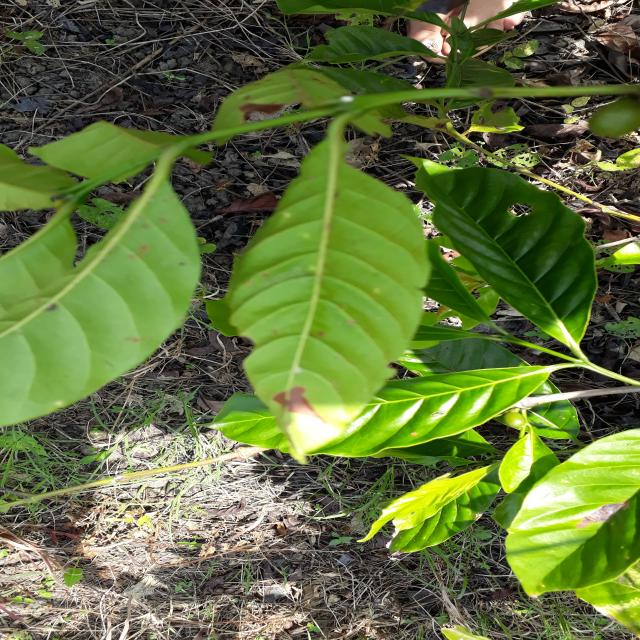Plaga-AranaRoja: (227, 164, 432, 464)
